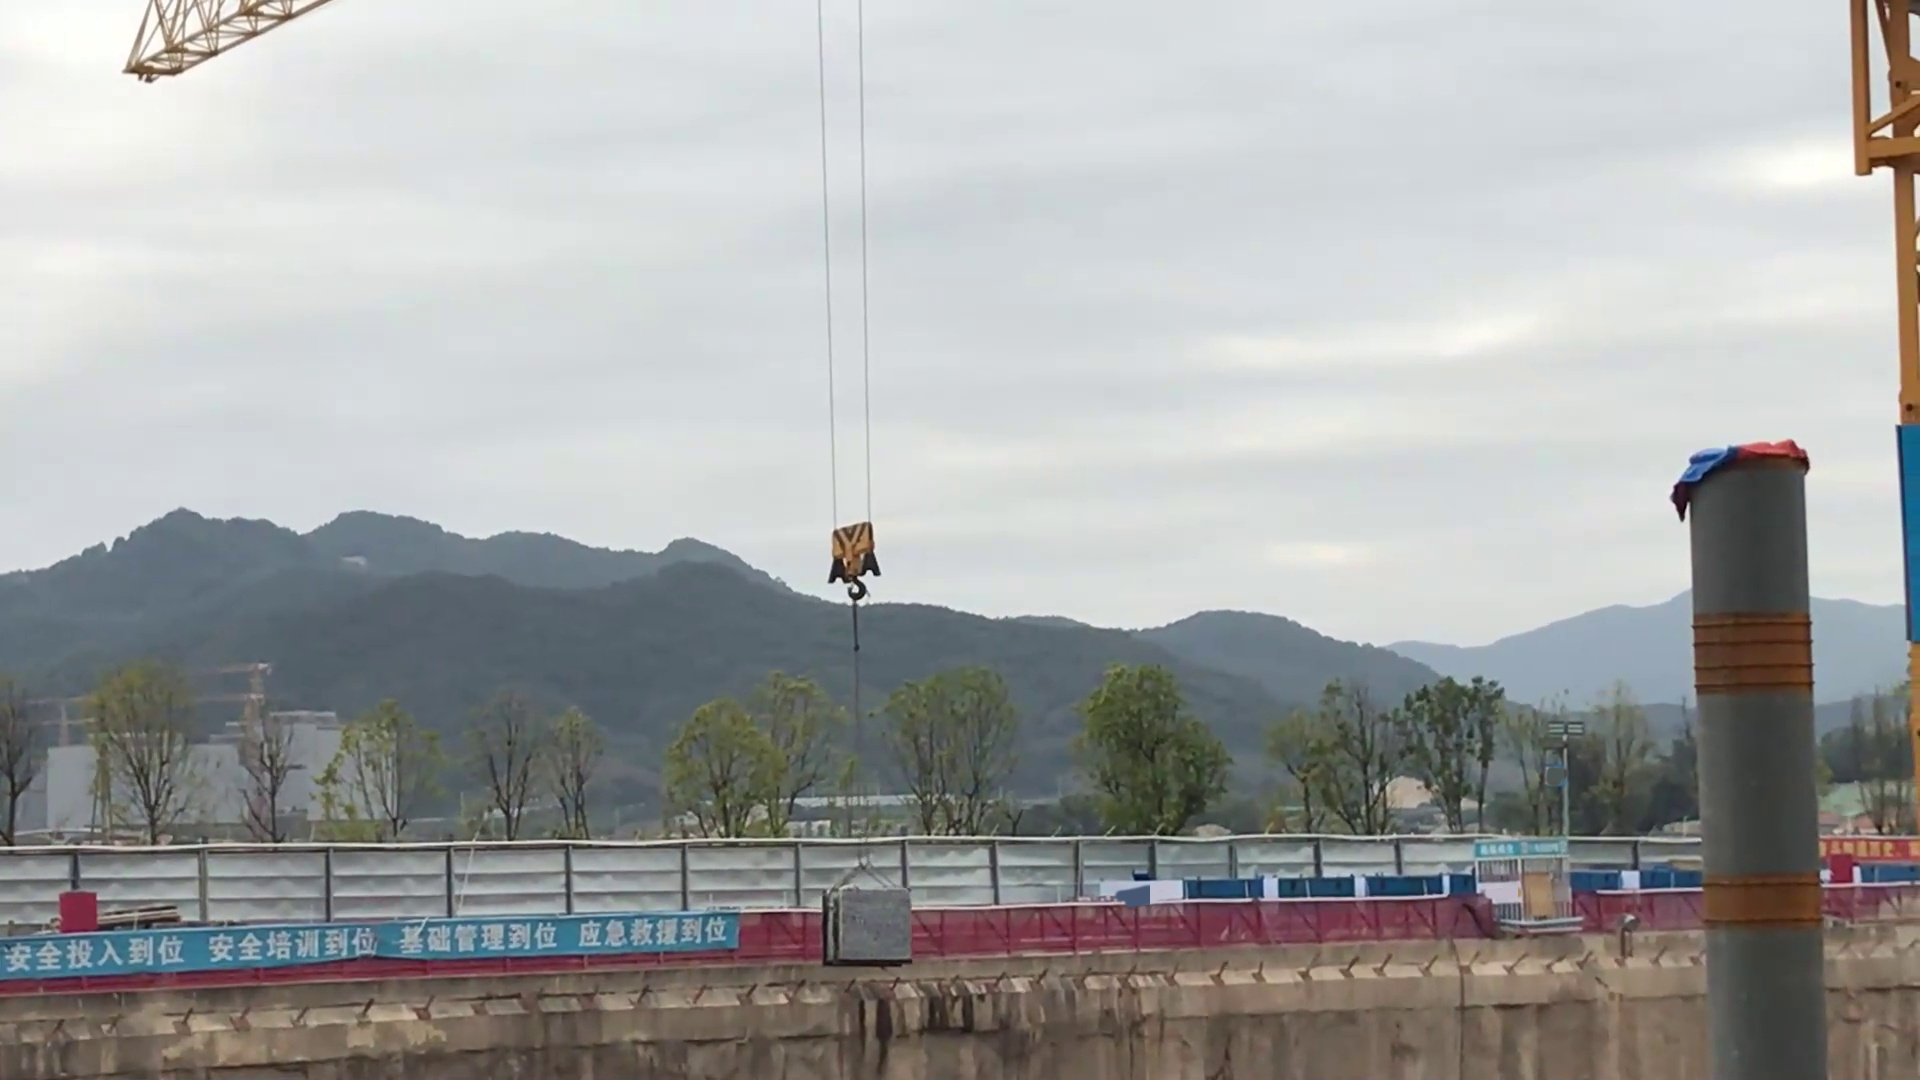fence: (1, 885, 1920, 997)
hook: (822, 522, 887, 620)
scaffold: (829, 881, 914, 960)
slogan: (5, 913, 735, 978), (1832, 837, 1920, 865)
